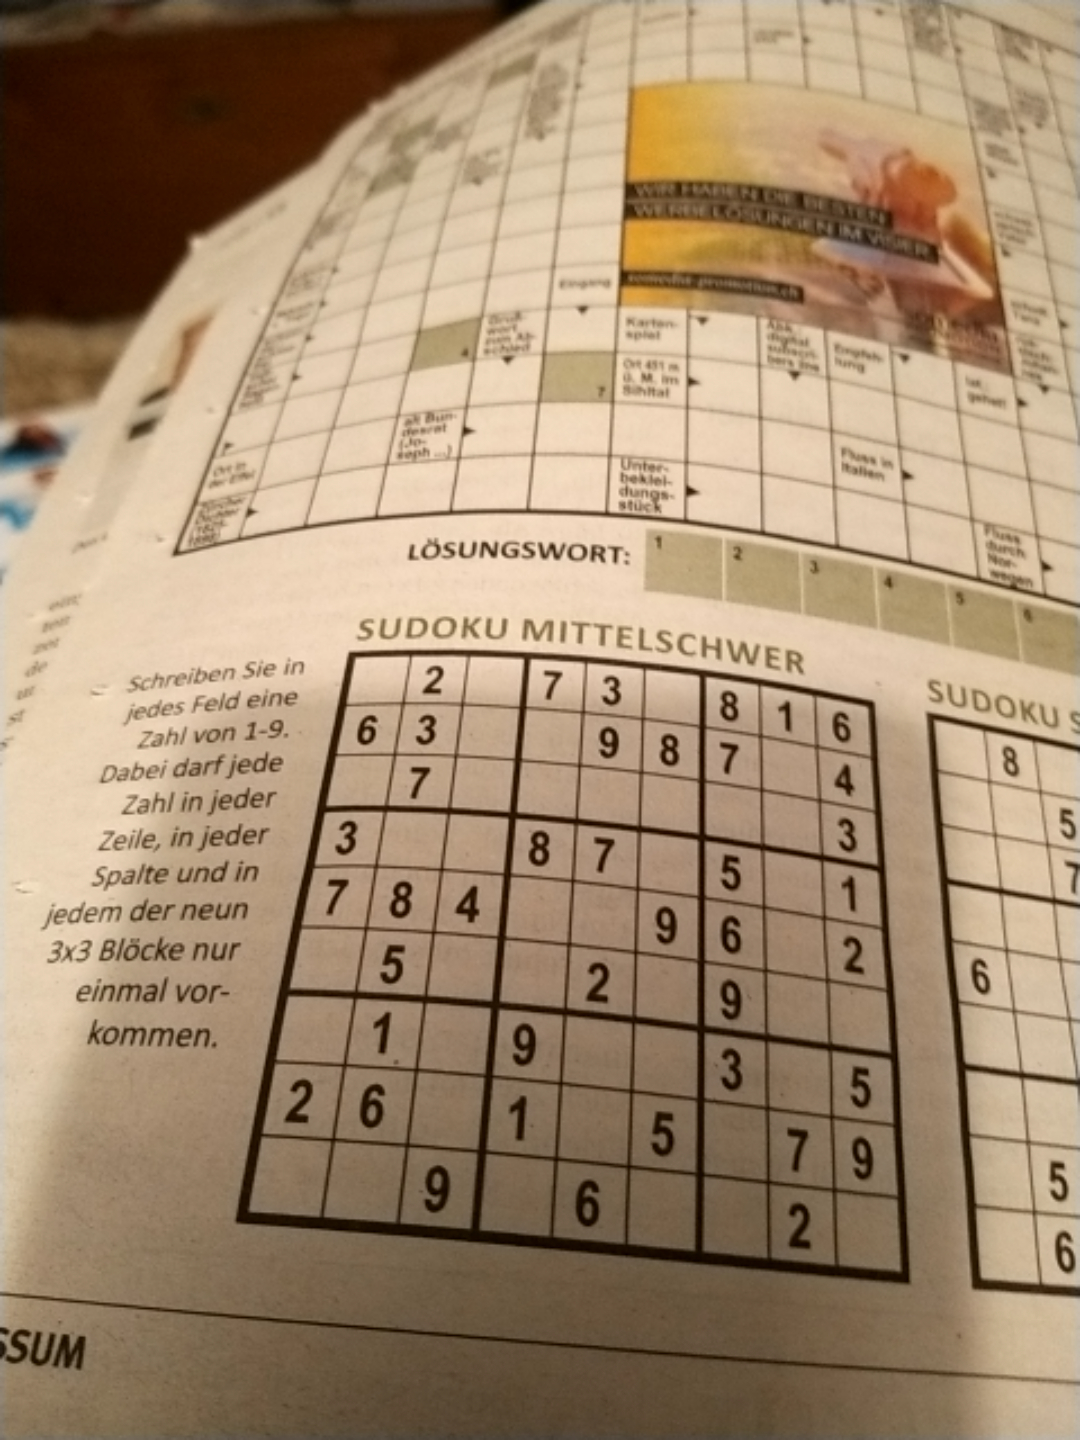sudoku: (229, 647, 912, 1286)
